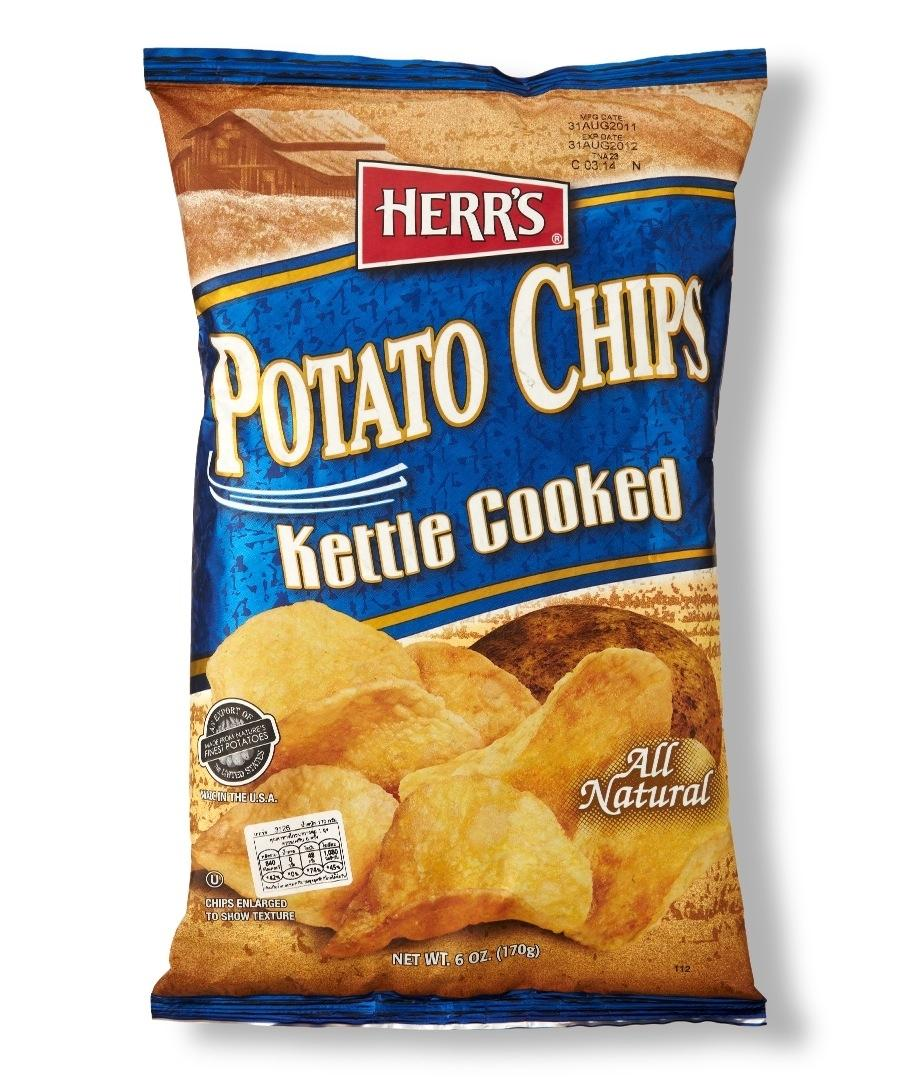plastic: (136, 41, 786, 1040)
